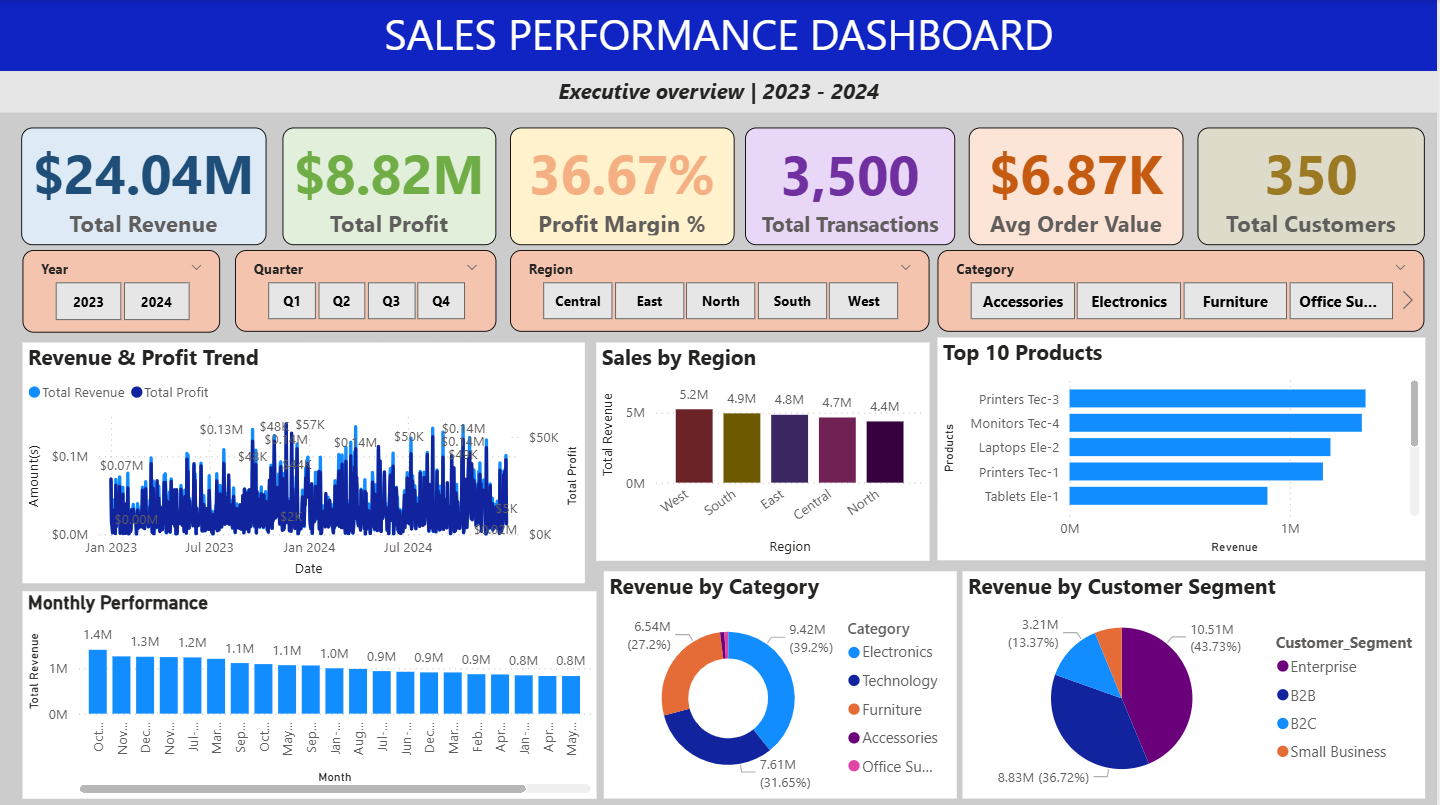

What the dashboard file says about the page in this screenshot:
{"tool":"powerbi","page":{"name":"Executive Overview","canvas":[1280,720],"ordinal":0},"visuals":[{"type":"textbox","box":[0,0,1280.3,63.1],"z":0},{"type":"textbox","box":[0,63.1,1280.3,37],"z":1000},{"type":"card","fields":{"Values":["_Measure.Total Revenue"]},"box":[19,114,218,105],"z":2000},{"type":"card","fields":{"Values":["_Measure.Total Profit"]},"box":[251.2,113.8,190,105],"z":3000},{"type":"card","fields":{"Values":["_Measure.Profit Margin %"]},"box":[453.8,113.8,200,105],"z":4000},{"type":"card","fields":{"Values":["_Measure.Total Transactions"]},"box":[663.8,113.8,187.5,105],"z":5000},{"type":"card","fields":{"Values":["_Measure.Avg Order Value"]},"box":[862.5,113.8,191.2,105],"z":6000},{"type":"card","fields":{"Values":["_Measure.Total Customers"]},"box":[1066.2,113.8,202.5,105],"z":7000},{"type":"slicer","fields":{"Values":["DateTable.Year"]},"box":[20,222.5,176.2,73.8],"z":8000},{"type":"slicer","fields":{"Values":["DateTable.Quarter"]},"box":[208.8,222.5,232.5,72.5],"z":9000},{"type":"slicer","fields":{"Values":["Sales_Transactions.Region"]},"box":[453.8,222.5,373.8,72.5],"z":10000},{"type":"slicer","fields":{"Values":["Sales_Transactions.Category"]},"box":[835,222.5,433.8,72.5],"z":11000},{"type":"lineChart","title":"Revenue & Profit Trend","fields":{"Category":["DateTable.Date"],"Y":["_Measure.Total Revenue"],"Y2":["_Measure.Total Profit"]},"box":[20,305,501,214],"z":12000},{"type":"clusteredColumnChart","title":"Sales by Region","fields":{"Category":["Sales_Transactions.Region"],"Y":["Sum(Sales_Transactions.Total_Amount)"]},"box":[531,305,297,194],"z":13000},{"type":"donutChart","title":"Revenue by Category","fields":{"Category":["Sales_Transactions.Category"],"Y":["Sum(Sales_Transactions.Total_Amount)"]},"box":[538,509,314,202],"z":14000},{"type":"clusteredColumnChart","title":"Monthly Performance","fields":{"Category":["DateTable.MonthYear"],"Y":["Sum(Sales_Transactions.Total_Amount)"]},"box":[20,526,511,185],"z":15000},{"type":"clusteredBarChart","title":"Top 10 Products","fields":{"Category":["Sales_Transactions.Product_Name"],"Y":["Sum(Sales_Transactions.Total_Amount)"]},"box":[835,301,434,198],"z":16000},{"type":"pieChart","title":"Revenue by Customer Segment","fields":{"Category":["Sales_Transactions.Customer_Segment"],"Y":["Sum(Sales_Transactions.Total_Amount)"]},"box":[857,509,412,202],"z":17000}]}

Visuals, with their boxes in screenshot pixels (x1, y1, x2, y2), scaled from the page's 1280x720 canvas onto the 1440x805 screenshot:
textbox: bbox=(0, 0, 1439, 71)
textbox: bbox=(0, 71, 1439, 112)
card - _Measure.Total Revenue: bbox=(21, 127, 267, 245)
card - _Measure.Total Profit: bbox=(283, 127, 496, 245)
card - _Measure.Profit Margin %: bbox=(511, 127, 736, 245)
card - _Measure.Total Transactions: bbox=(747, 127, 958, 245)
card - _Measure.Avg Order Value: bbox=(970, 127, 1185, 245)
card - _Measure.Total Customers: bbox=(1199, 127, 1427, 245)
slicer - DateTable.Year: bbox=(22, 249, 221, 331)
slicer - DateTable.Quarter: bbox=(235, 249, 496, 330)
slicer - Sales_Transactions.Region: bbox=(511, 249, 931, 330)
slicer - Sales_Transactions.Category: bbox=(939, 249, 1427, 330)
"Revenue & Profit Trend" lineChart: bbox=(22, 341, 586, 580)
"Sales by Region" clusteredColumnChart: bbox=(597, 341, 932, 558)
"Revenue by Category" donutChart: bbox=(605, 569, 958, 795)
"Monthly Performance" clusteredColumnChart: bbox=(22, 588, 597, 795)
"Top 10 Products" clusteredBarChart: bbox=(939, 337, 1428, 558)
"Revenue by Customer Segment" pieChart: bbox=(964, 569, 1428, 795)
